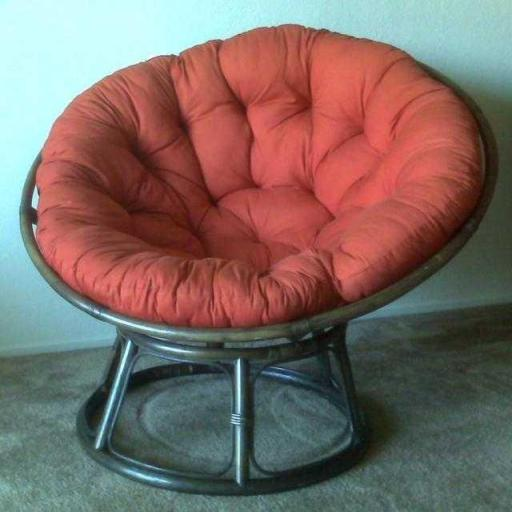chair: (14, 18, 502, 504)
